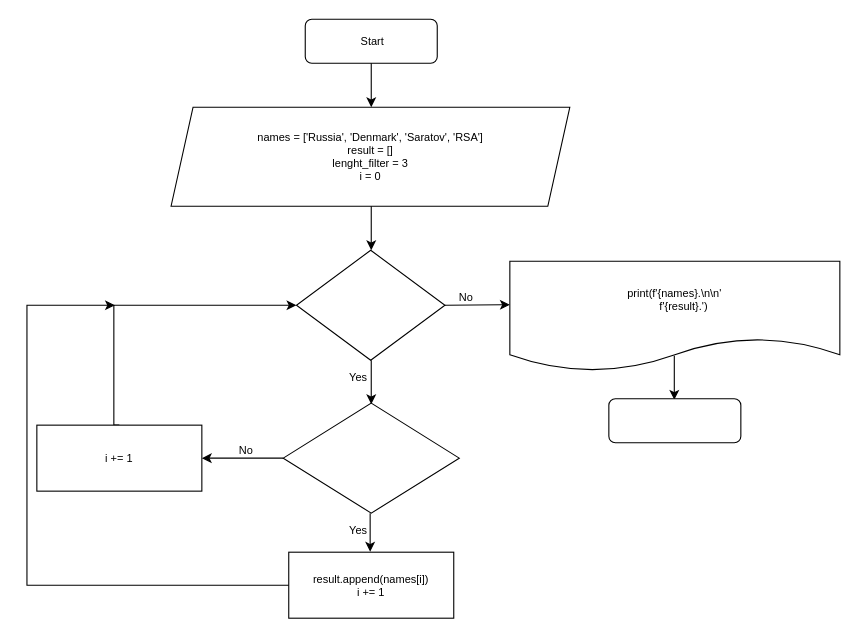
Image size: 859x638. Some labels were removed from this diagram. Here are the shapes that lost their labels. From the top down, the centre of each, then its label:
(x=370, y=304): i < len(names)
(x=674, y=420): End
(x=370, y=457): names[i] <= lenght_filter
